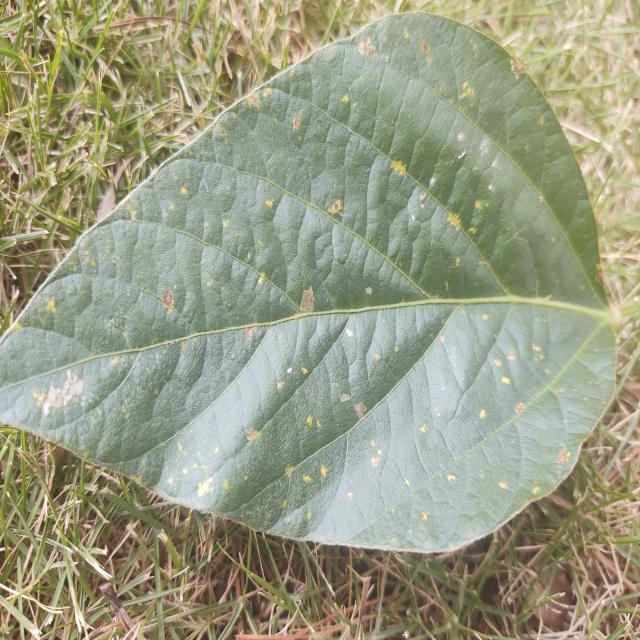Soybean: (0, 13, 619, 556)
downey_mildew: (3, 225, 219, 432), (128, 313, 337, 475), (320, 25, 431, 304), (414, 58, 504, 270), (474, 154, 602, 301), (500, 310, 622, 440), (419, 423, 537, 545), (214, 166, 305, 322), (306, 394, 402, 536), (346, 299, 439, 440), (118, 212, 204, 347), (410, 333, 503, 448), (1, 326, 94, 393), (510, 384, 571, 468), (239, 177, 304, 245), (539, 154, 583, 230), (496, 230, 540, 292), (280, 297, 344, 329)
